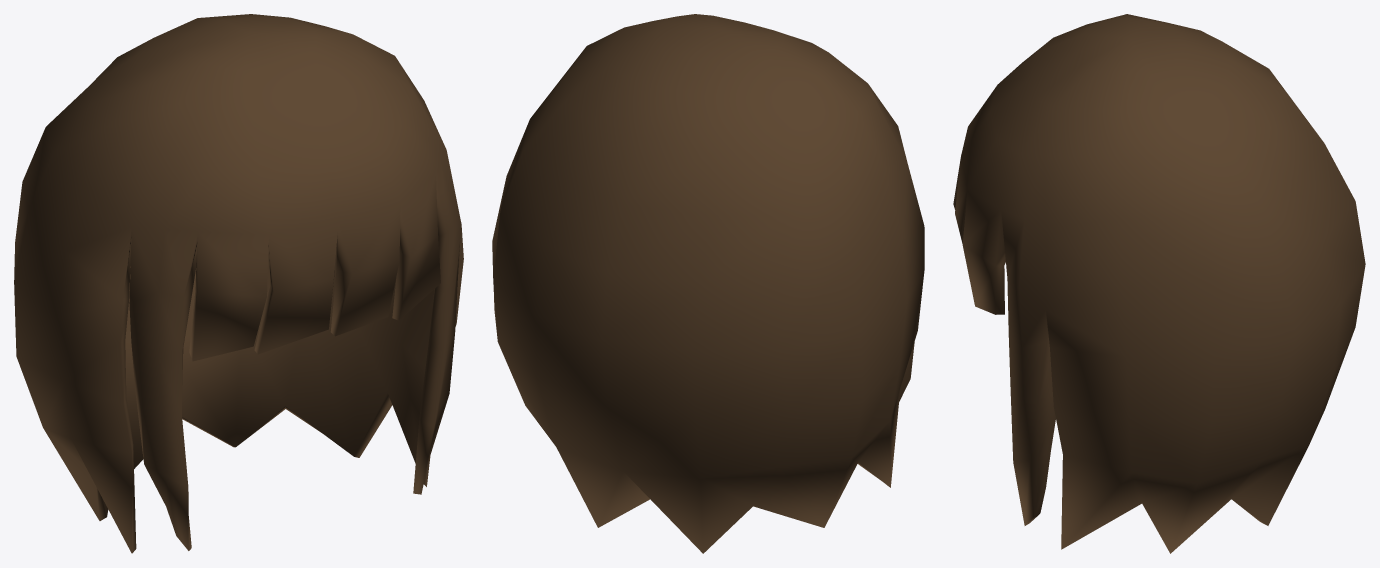
Rendered from female_hair_1.fbx.
3 views of the same model, side by side, from view 1: azimuth 30°, elevation 25°; view 2: azimuth 150°, elevation 25°; view 3: azimuth 270°, elevation 25° (orthographic). The views are drawn at different scales.
Parts seen in each view (by area): view 1: Female Hair 1; view 2: Female Hair 1; view 3: Female Hair 1.
Boxes of the visible parts, x1,y1,x2,y2 form: Female Hair 1: [14, 14, 463, 553]; Female Hair 1: [492, 14, 924, 553]; Female Hair 1: [953, 14, 1365, 553].
Size of the model in its own units: 122 by 144 by 117.
